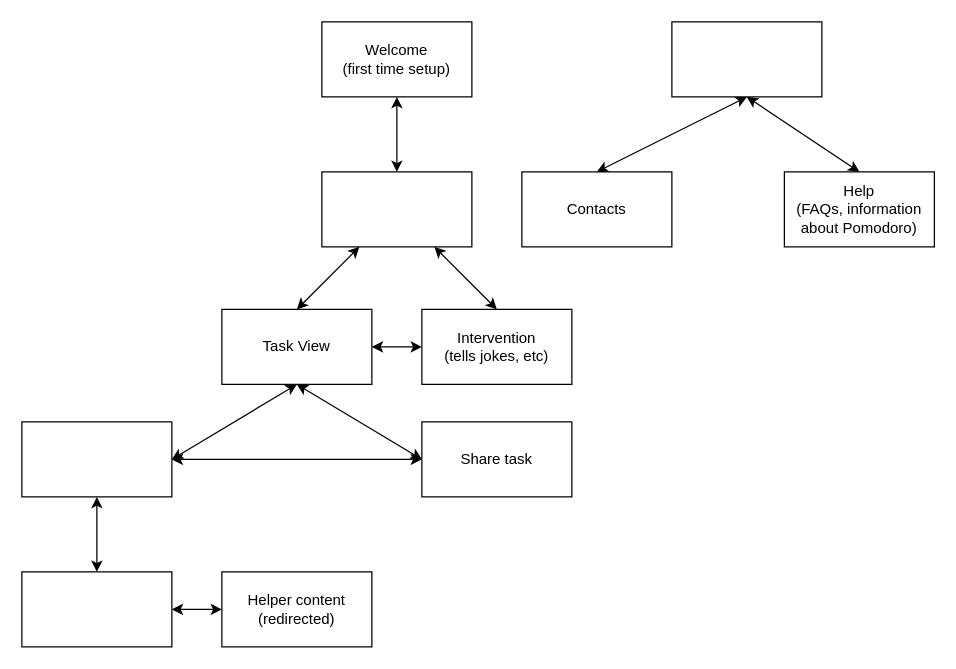
Some shapes in this 956 by 669 pixel diagram are drawn without their labels. The centre of each missing label's shape, as x and y in pixels:
Helper: pixel 96 609
Home Page: pixel 396 209
Settings (can be accessed from any page): pixel 746 59
Task info: pixel 96 459
